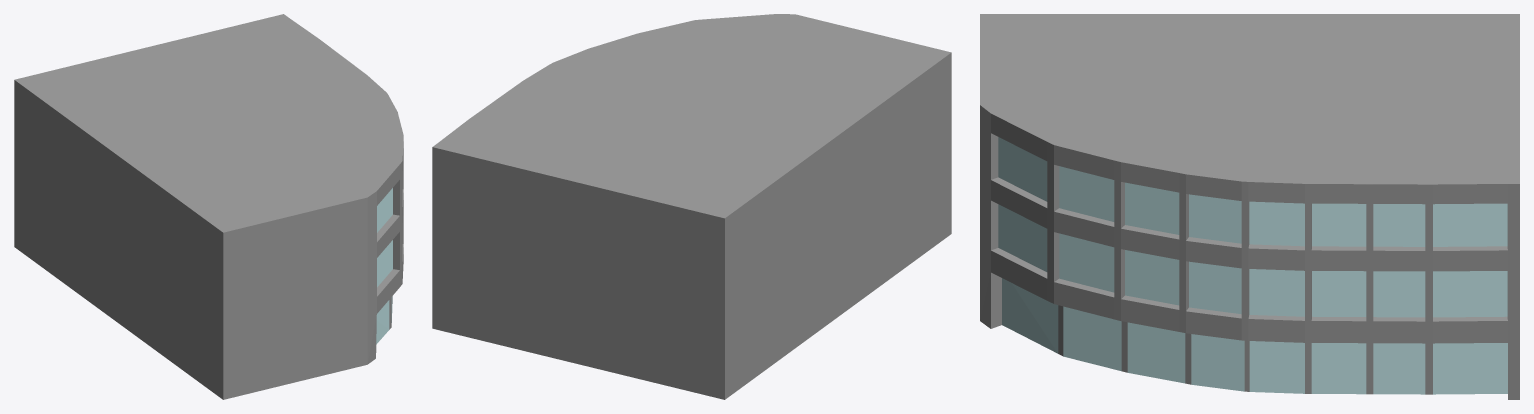
The model's file is Haneji_test2 1.fbx.
The picture shows the model from 3 angles, left to right: view 1: azimuth 30°, elevation 25°; view 2: azimuth 150°, elevation 25°; view 3: azimuth 270°, elevation 25°; orthographic projection. The views are drawn at different scales.
Parts seen in each view (by area): view 1: niconico; view 2: niconico; view 3: niconico.
Boxes of the visible parts, x1=… form: niconico: x1=14, y1=14, x2=403, y2=399; niconico: x1=432, y1=14, x2=951, y2=399; niconico: x1=980, y1=14, x2=1519, y2=399.
Bounding box in the file's own units: 2539 × 1500 × 3397.
